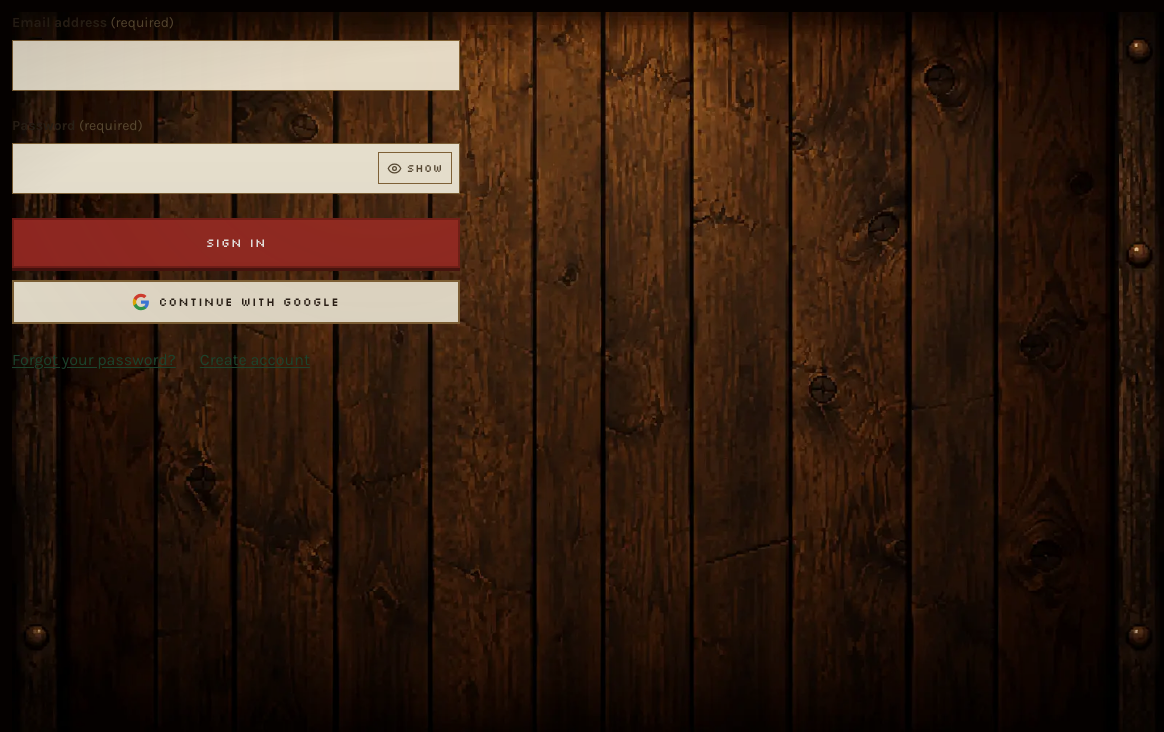
it: says sign-in is unavailable when Clerk has not loaded
Type "student@example.edu.my" into the field labelled "Email address (required)" at {"x": 236, "y": 65}, box [12,40,460,91]
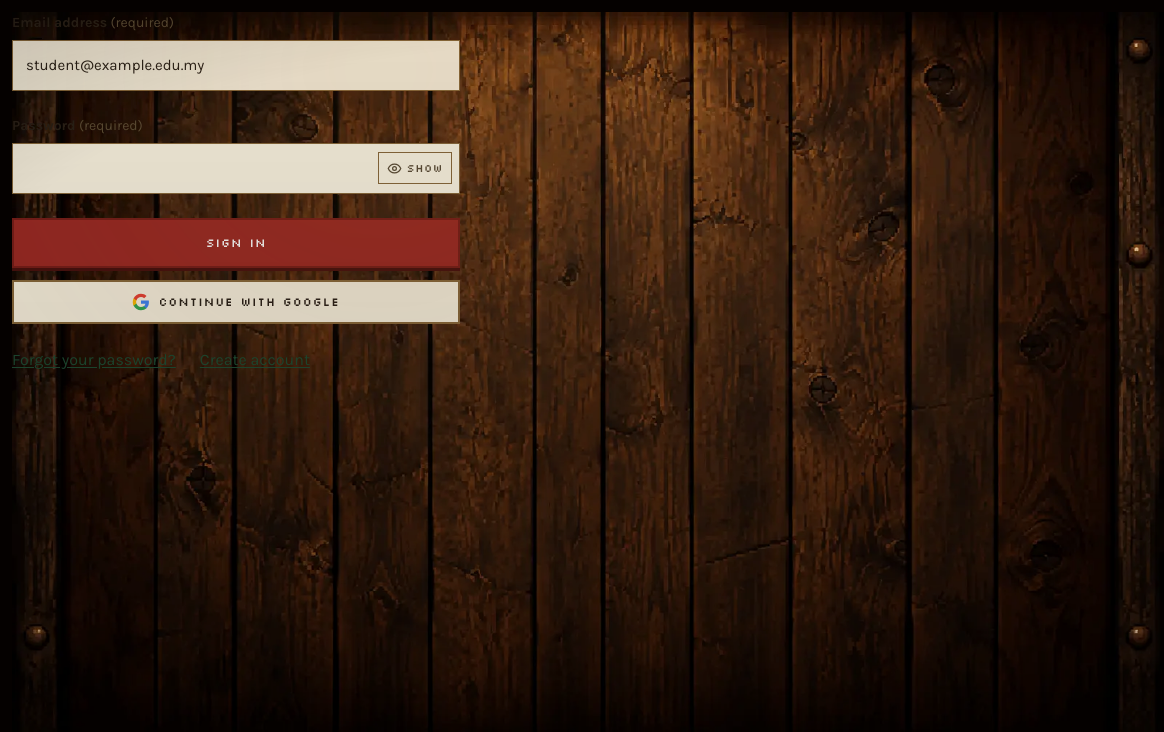
Type "a-long-passphrase" into the password field labelled "Password (required)" at {"x": 236, "y": 168}, box [12,143,460,194]
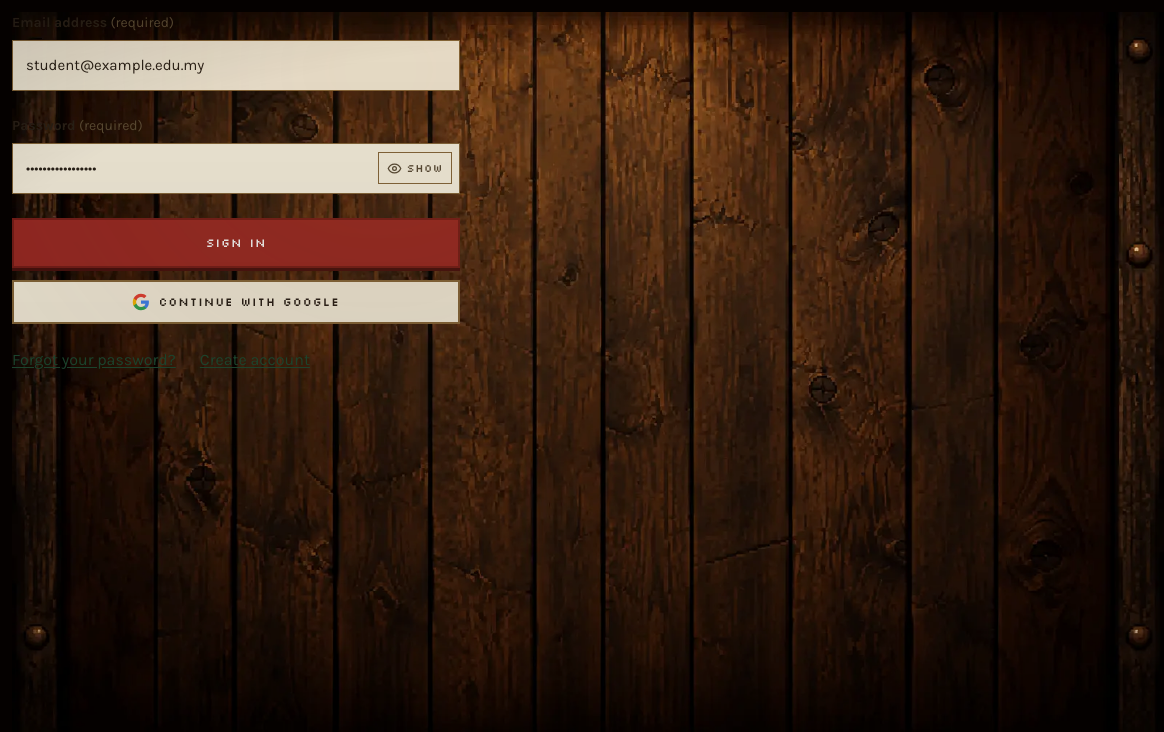
Click the button "Sign in" at {"x": 236, "y": 243}, box [12,218,460,268]
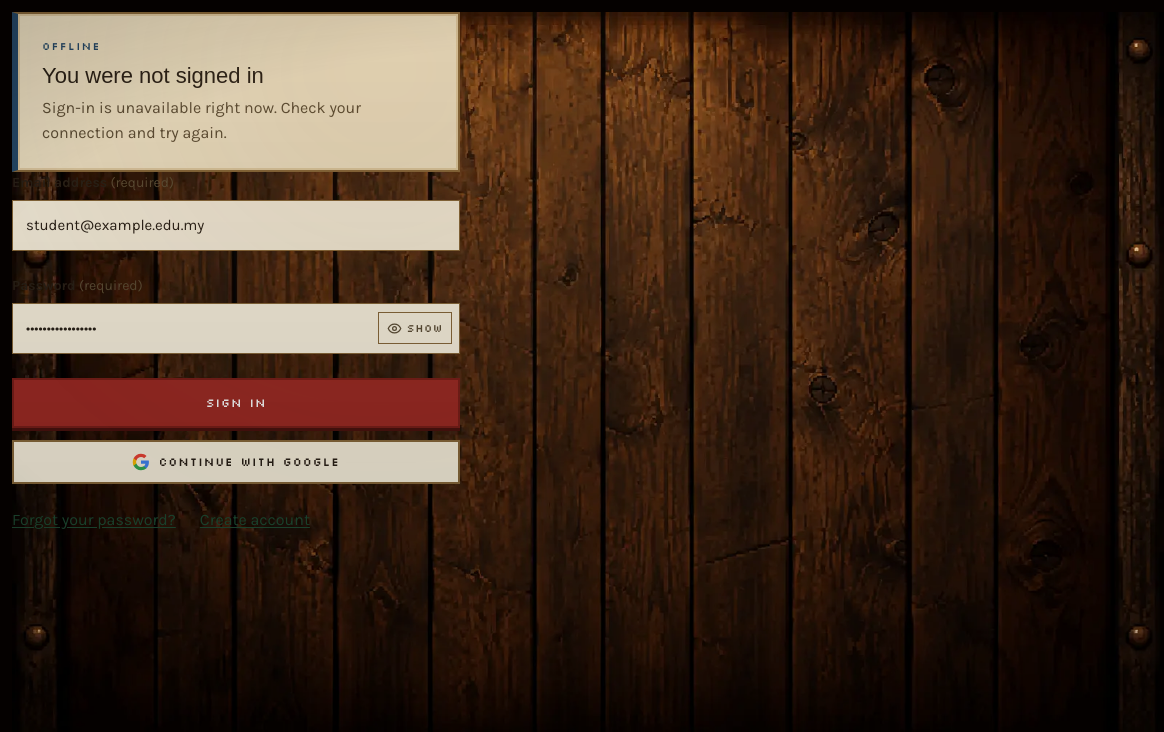
Expected: the heading "You were not signed in" is shown, [42,63,264,88]
Expected: the text "Sign-in is unavailable right now" is shown, [42,98,361,142]
